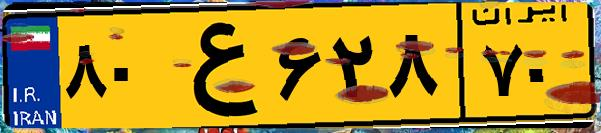0: (525, 38, 570, 115), (110, 28, 158, 98)
2: (330, 28, 385, 110)
6: (270, 28, 330, 110)
7: (475, 38, 525, 113)
8: (385, 28, 445, 110), (57, 26, 110, 100)
ع: (158, 12, 270, 120)
